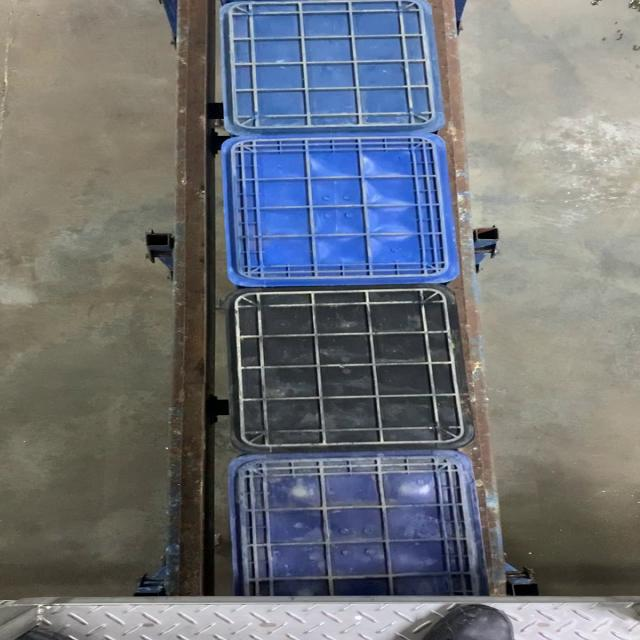Box: (224, 290, 477, 453), (220, 137, 460, 289), (213, 0, 447, 136)
